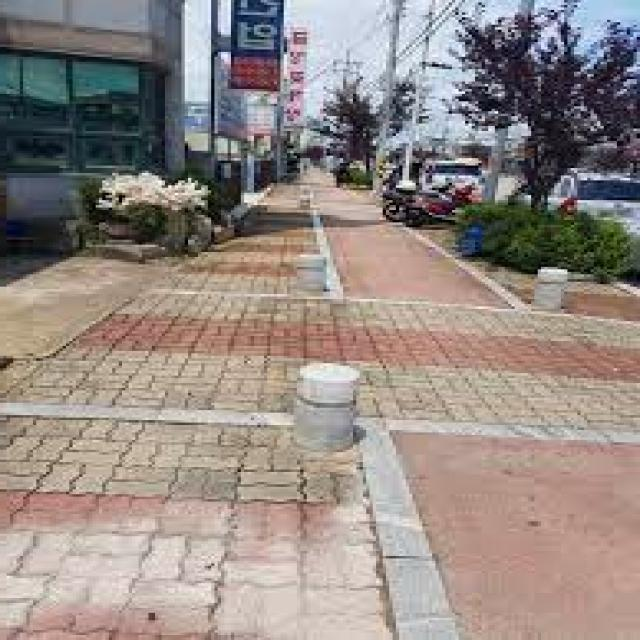bollard: (276, 354, 368, 461), (518, 260, 574, 320), (283, 246, 335, 300)
